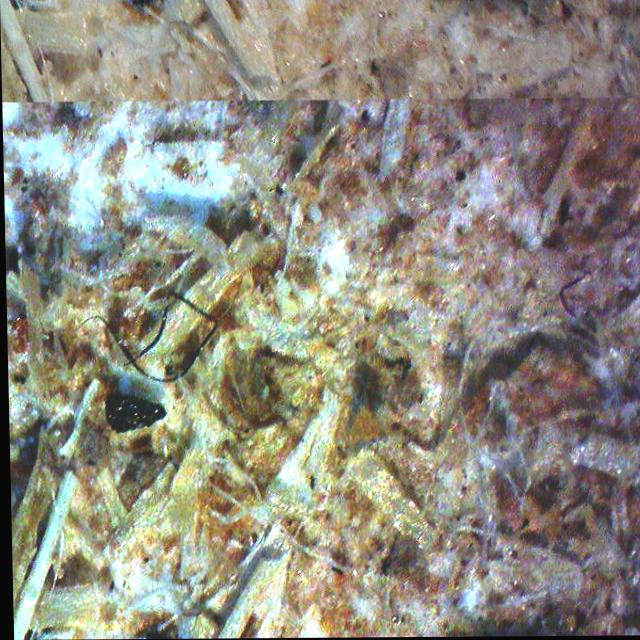microplastic: (78, 256, 222, 395)
